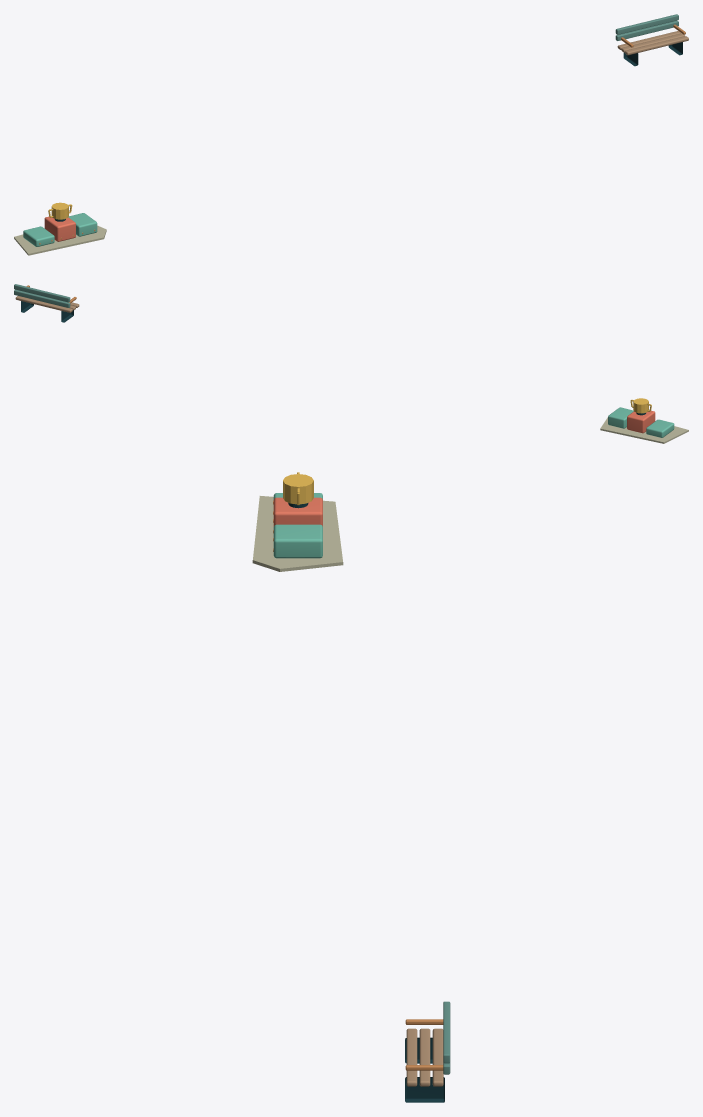
Rendered from bridges_furniture.glb.
3 views of the same model, one above another, from view 1: azimuth 30°, elevation 25°; view 2: azimuth 150°, elevation 25°; view 3: azimuth 270°, elevation 25° (orthographic). The views are drawn at different scales.
Parts seen in each view (by area): view 1: REFINED_BATCH_FURNITURE_Craft_mint_vinyl_NEW_V2, REFINED_BATCH_FURNITURE_REFINED_warm_path_NEW_V2, REFINED_BATCH_FURNITURE_Craft_MOD_sage_shell_NEW_V2, REFINED_BATCH_FURNITURE_REFINED_bench_wood_NEW_V2, REFINED_BATCH_FURNITURE_Craft_coral_vinyl_NEW_V2; view 2: REFINED_BATCH_FURNITURE_Craft_mint_vinyl_NEW_V2, REFINED_BATCH_FURNITURE_REFINED_warm_path_NEW_V2, REFINED_BATCH_FURNITURE_Craft_MOD_sage_shell_NEW_V2, REFINED_BATCH_FURNITURE_Craft_coral_vinyl_NEW_V2, REFINED_BATCH_FURNITURE_REFINED_bench_wood_NEW_V2, REFINED_BATCH_FURNITURE_Craft_ochre_vinyl_NEW_V2; view 3: REFINED_BATCH_FURNITURE_REFINED_warm_path_NEW_V2, REFINED_BATCH_FURNITURE_REFINED_bench_wood_NEW_V2, REFINED_BATCH_FURNITURE_Craft_mint_vinyl_NEW_V2, REFINED_BATCH_FURNITURE_Craft_coral_vinyl_NEW_V2, REFINED_BATCH_FURNITURE_Craft_MOD_chassis_dark_NEW_V2.
Boxes of the visible parts, <box> form: REFINED_BATCH_FURNITURE_Craft_mint_vinyl_NEW_V2: <box>23,213,97,246</box>; REFINED_BATCH_FURNITURE_REFINED_warm_path_NEW_V2: <box>14,225,106,255</box>; REFINED_BATCH_FURNITURE_Craft_MOD_sage_shell_NEW_V2: <box>615,14,678,40</box>; REFINED_BATCH_FURNITURE_REFINED_bench_wood_NEW_V2: <box>617,31,688,55</box>; REFINED_BATCH_FURNITURE_Craft_coral_vinyl_NEW_V2: <box>44,216,75,241</box>; REFINED_BATCH_FURNITURE_Craft_mint_vinyl_NEW_V2: <box>608,407,674,437</box>; REFINED_BATCH_FURNITURE_REFINED_warm_path_NEW_V2: <box>600,417,688,443</box>; REFINED_BATCH_FURNITURE_Craft_MOD_sage_shell_NEW_V2: <box>14,284,70,307</box>; REFINED_BATCH_FURNITURE_Craft_coral_vinyl_NEW_V2: <box>627,410,655,433</box>; REFINED_BATCH_FURNITURE_REFINED_bench_wood_NEW_V2: <box>15,296,79,312</box>; REFINED_BATCH_FURNITURE_Craft_ochre_vinyl_NEW_V2: <box>630,398,651,413</box>; REFINED_BATCH_FURNITURE_REFINED_warm_path_NEW_V2: <box>252,496,343,571</box>; REFINED_BATCH_FURNITURE_REFINED_bench_wood_NEW_V2: <box>406,1028,443,1086</box>; REFINED_BATCH_FURNITURE_Craft_mint_vinyl_NEW_V2: <box>273,493,322,558</box>; REFINED_BATCH_FURNITURE_Craft_coral_vinyl_NEW_V2: <box>273,497,322,526</box>; REFINED_BATCH_FURNITURE_Craft_MOD_chassis_dark_NEW_V2: <box>288,503,444,1102</box>.
Size of the model in its own units: 18.77 by 0.81 by 2.56.
